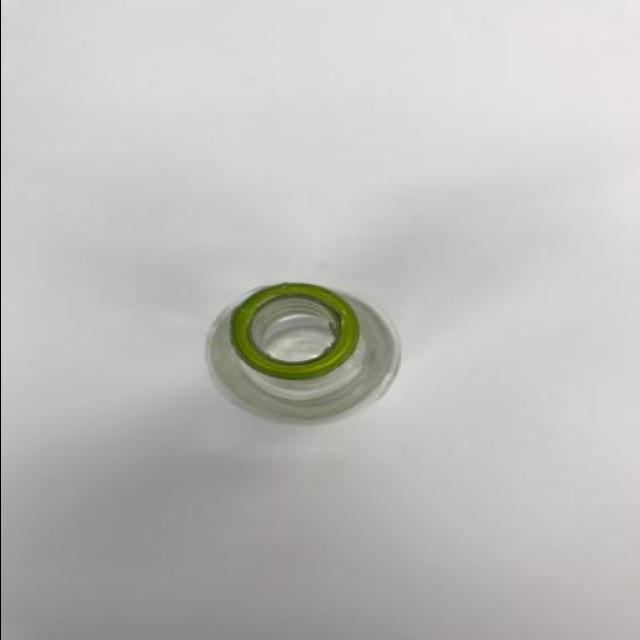litter: (205, 280, 407, 425)
